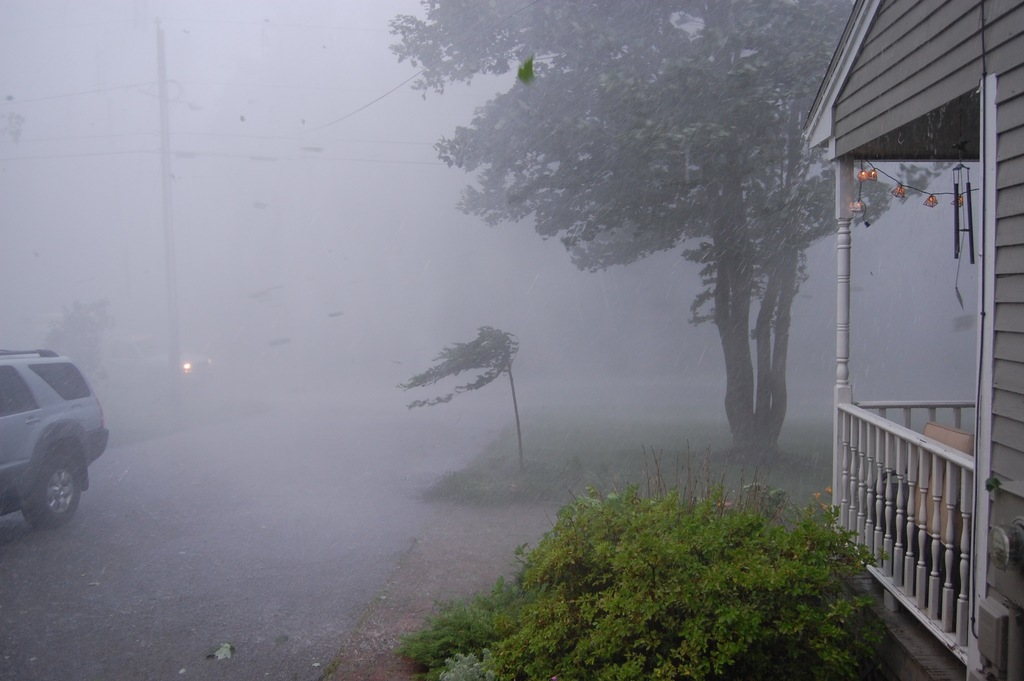Tree: (388, 0, 955, 447)
